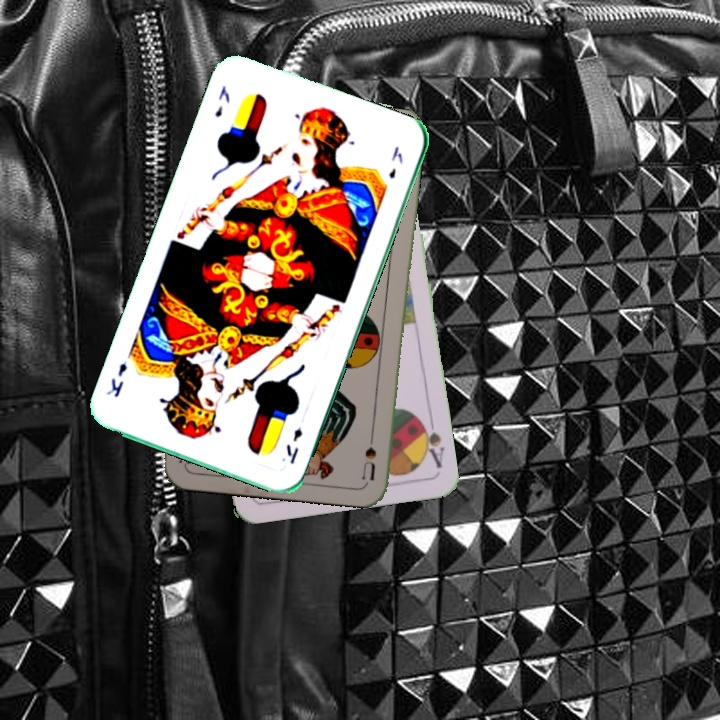EK: (281, 423, 305, 467), (210, 81, 233, 120)
SA: (415, 413, 447, 471)
SU: (358, 422, 379, 482)
